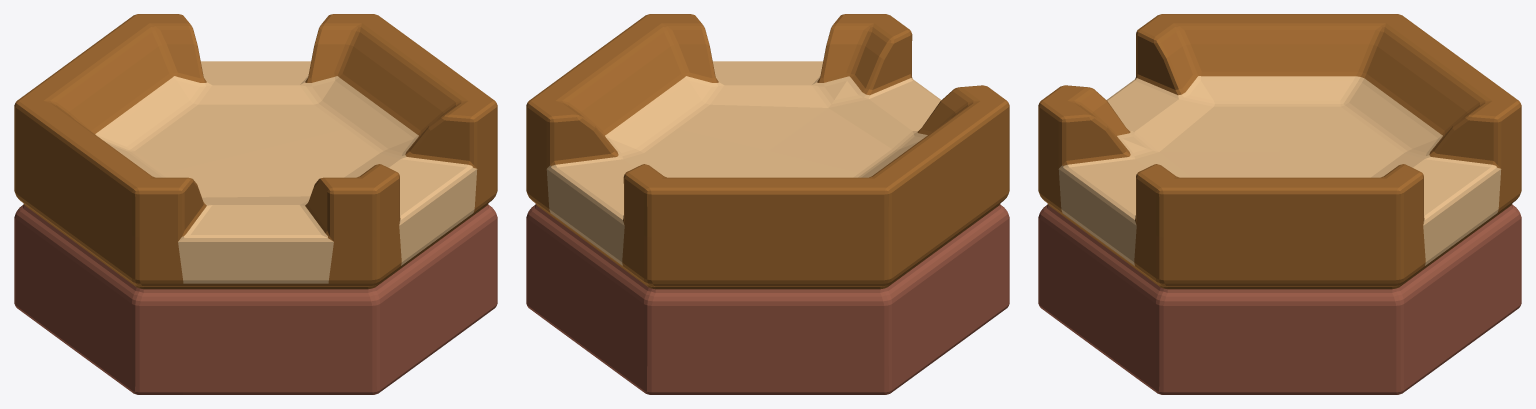
Rendered from my_road_356.fbx.
The picture shows the model from 3 angles, left to right: view 1: azimuth 30°, elevation 25°; view 2: azimuth 150°, elevation 25°; view 3: azimuth 270°, elevation 25°; orthographic projection.
Visible parts, largest first — view 1: Circle.012; view 2: Circle.012; view 3: Circle.012.
Part boxes in pixels (x1=…): Circle.012: x1=14, y1=14, x2=497, y2=394; Circle.012: x1=526, y1=14, x2=1009, y2=394; Circle.012: x1=1038, y1=14, x2=1521, y2=394.
Bounding box in the file's own units: 200 × 109 × 230.
